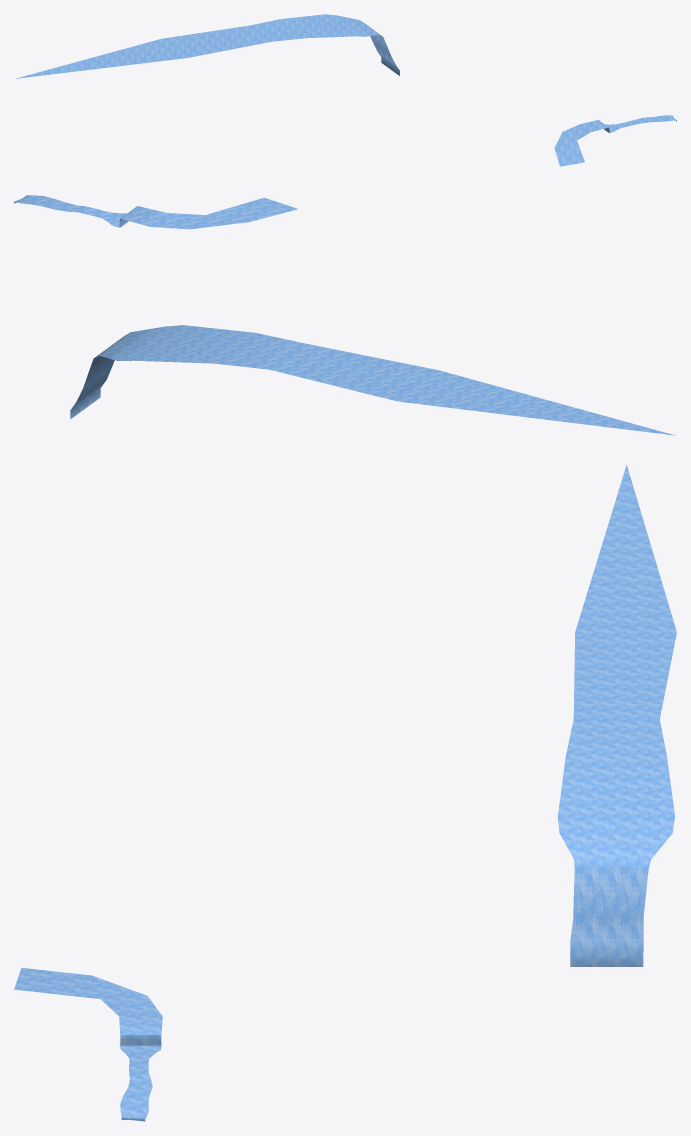
The model's file is Water.obj.
The picture shows the model from 3 angles, top to bottom: view 1: azimuth 30°, elevation 25°; view 2: azimuth 150°, elevation 25°; view 3: azimuth 270°, elevation 25°; orthographic projection. The views are drawn at different scales.
Visible parts, largest first — view 1: Water; view 2: Water; view 3: Water.
Boxes of the visible parts, x1,y1,x2,y2 form: Water: (15,14,676,166); Water: (14,195,675,435); Water: (14,465,676,1121).
Bounding box in the file's own units: 3266 × 452 × 1805.
1 material, 1 textured.
